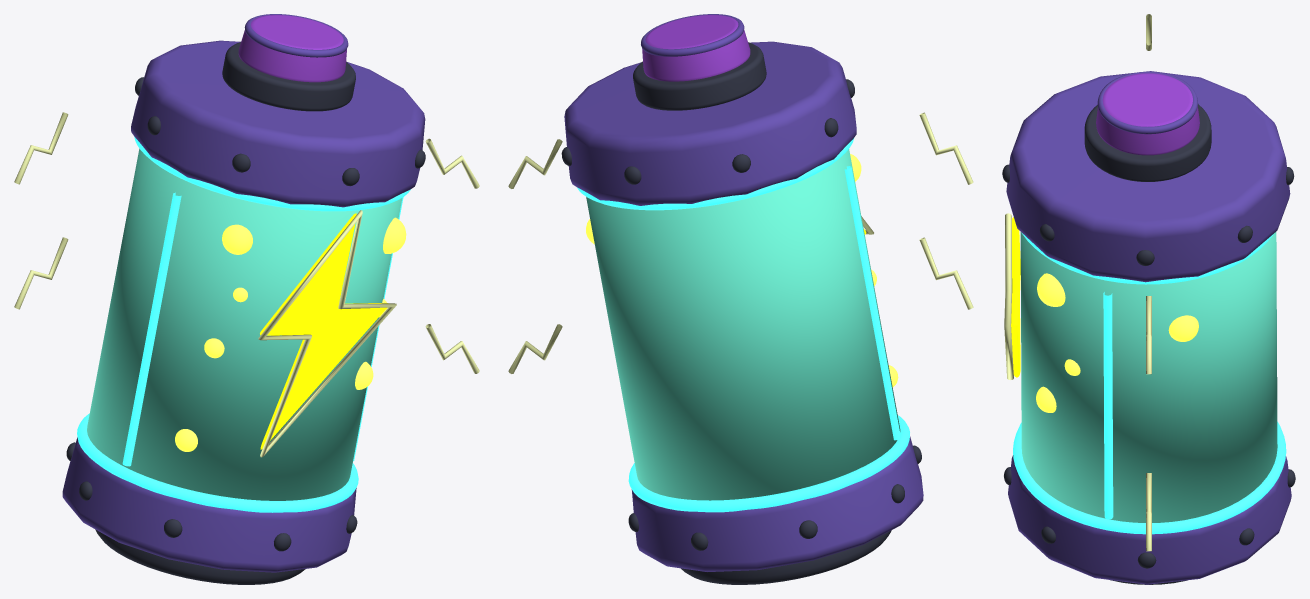
Rendered from turbo-battery.fbx.
3 renders of one model, left to right at view 1: azimuth 30°, elevation 25°; view 2: azimuth 150°, elevation 25°; view 3: azimuth 270°, elevation 25°, orthographic. The views are drawn at different scales.
Visible parts, largest first — view 1: Item_Battery_turquoise_glass, Item_Battery_violet_anodized_caps, Item_Battery_dark_cap_seal, Item_Battery_electric_cyan_seam, Item_Battery_lightning_gold, Item_Battery_purple_cap_inset, Item_Battery_lightning_edge, Item_Battery_charged_bubbles, FX_Battery_lightning_edge; view 2: Item_Battery_turquoise_glass, Item_Battery_violet_anodized_caps, Item_Battery_dark_cap_seal, Item_Battery_electric_cyan_seam, Item_Battery_purple_cap_inset, FX_Battery_lightning_edge; view 3: Item_Battery_turquoise_glass, Item_Battery_violet_anodized_caps, Item_Battery_electric_cyan_seam, Item_Battery_purple_cap_inset, Item_Battery_dark_cap_seal, Item_Battery_charged_bubbles, Item_Battery_lightning_gold, Item_Battery_lightning_edge, FX_Battery_lightning_edge.
Boxes of the visible parts, x1=… form: Item_Battery_turquoise_glass: x1=87, y1=148, x2=402, y2=500; Item_Battery_violet_anodized_caps: x1=62, y1=14, x2=425, y2=572; Item_Battery_dark_cap_seal: x1=66, y1=42, x2=425, y2=584; Item_Battery_electric_cyan_seam: x1=77, y1=137, x2=410, y2=512; Item_Battery_lightning_gold: x1=260, y1=213, x2=387, y2=449; Item_Battery_purple_cap_inset: x1=238, y1=15, x2=346, y2=82; Item_Battery_lightning_edge: x1=258, y1=210, x2=396, y2=457; Item_Battery_charged_bubbles: x1=175, y1=217, x2=406, y2=451; FX_Battery_lightning_edge: x1=14, y1=112, x2=479, y2=373; Item_Battery_turquoise_glass: x1=586, y1=149, x2=900, y2=500; Item_Battery_violet_anodized_caps: x1=564, y1=14, x2=923, y2=571; Item_Battery_dark_cap_seal: x1=561, y1=42, x2=921, y2=584; Item_Battery_electric_cyan_seam: x1=577, y1=138, x2=909, y2=512; Item_Battery_purple_cap_inset: x1=642, y1=15, x2=750, y2=81; FX_Battery_lightning_edge: x1=508, y1=112, x2=973, y2=373; Item_Battery_turquoise_glass: x1=1020, y1=232, x2=1277, y2=522; Item_Battery_violet_anodized_caps: x1=1006, y1=71, x2=1291, y2=584; Item_Battery_electric_cyan_seam: x1=1013, y1=232, x2=1286, y2=534; Item_Battery_purple_cap_inset: x1=1096, y1=73, x2=1199, y2=155; Item_Battery_dark_cap_seal: x1=1002, y1=104, x2=1295, y2=584; Item_Battery_charged_bubbles: x1=1036, y1=273, x2=1198, y2=412; Item_Battery_lightning_gold: x1=1011, y1=217, x2=1020, y2=377; Item_Battery_lightning_edge: x1=1004, y1=213, x2=1013, y2=379; FX_Battery_lightning_edge: x1=1146, y1=14, x2=1151, y2=551.
Size of the model in its own units: 105 by 112 by 60.09.
